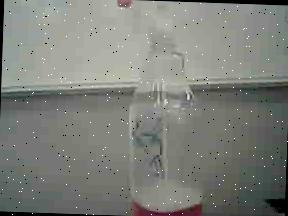hazard: (107, 0, 216, 216)
